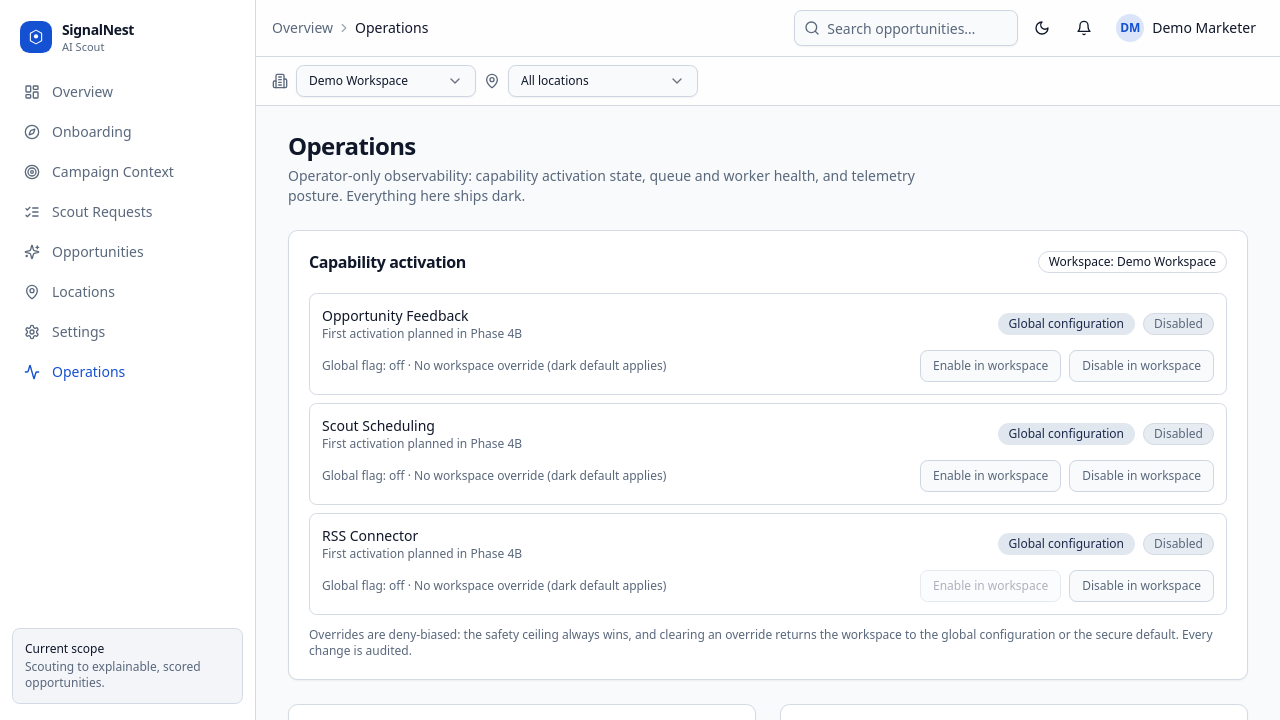
Test: operations page — override mutations › sets a workspace override behind an explicit confirmation and reflects the new state
This screenshot has width=1280, height=720.
Step 1. Click the 1st button "Enable in workspace" → (991, 366), box [920,350,1061,382]
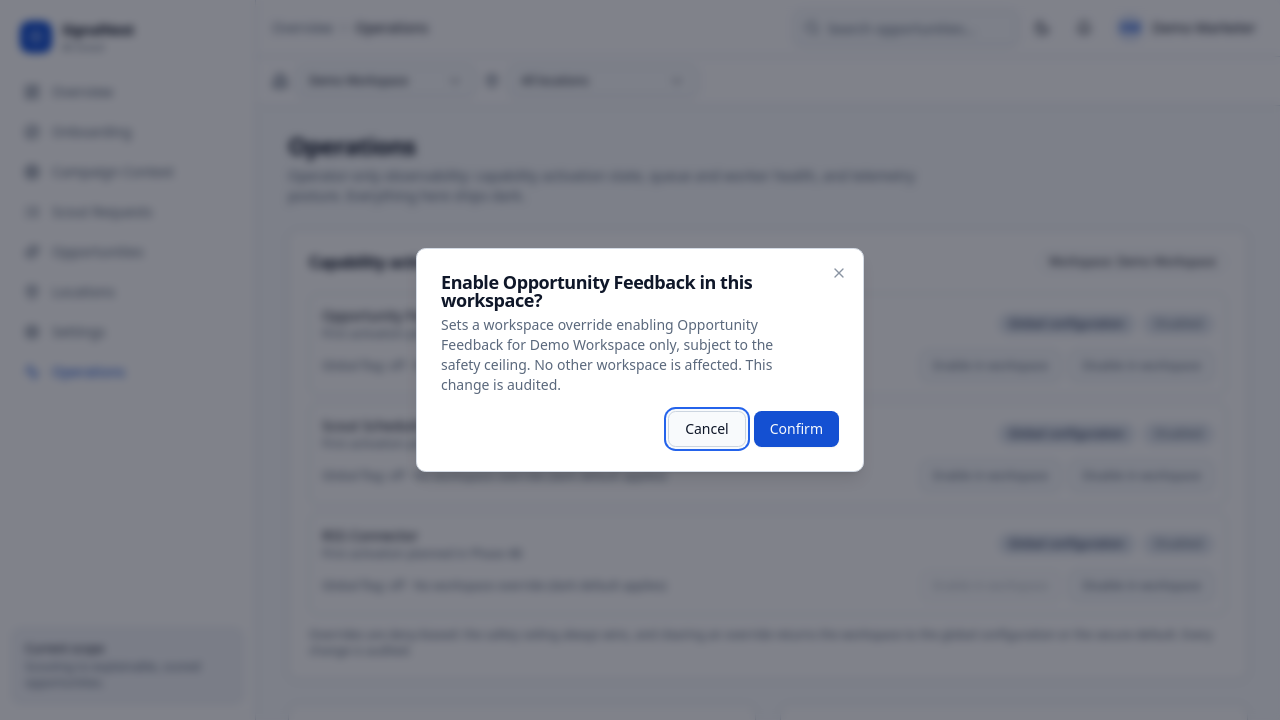
Expected: the heading "Enable Opportunity Feedback in this workspace?" is shown, [441,270,752,312]
Step 2. Click the button "Confirm" → (796, 429), box [754,411,839,447]
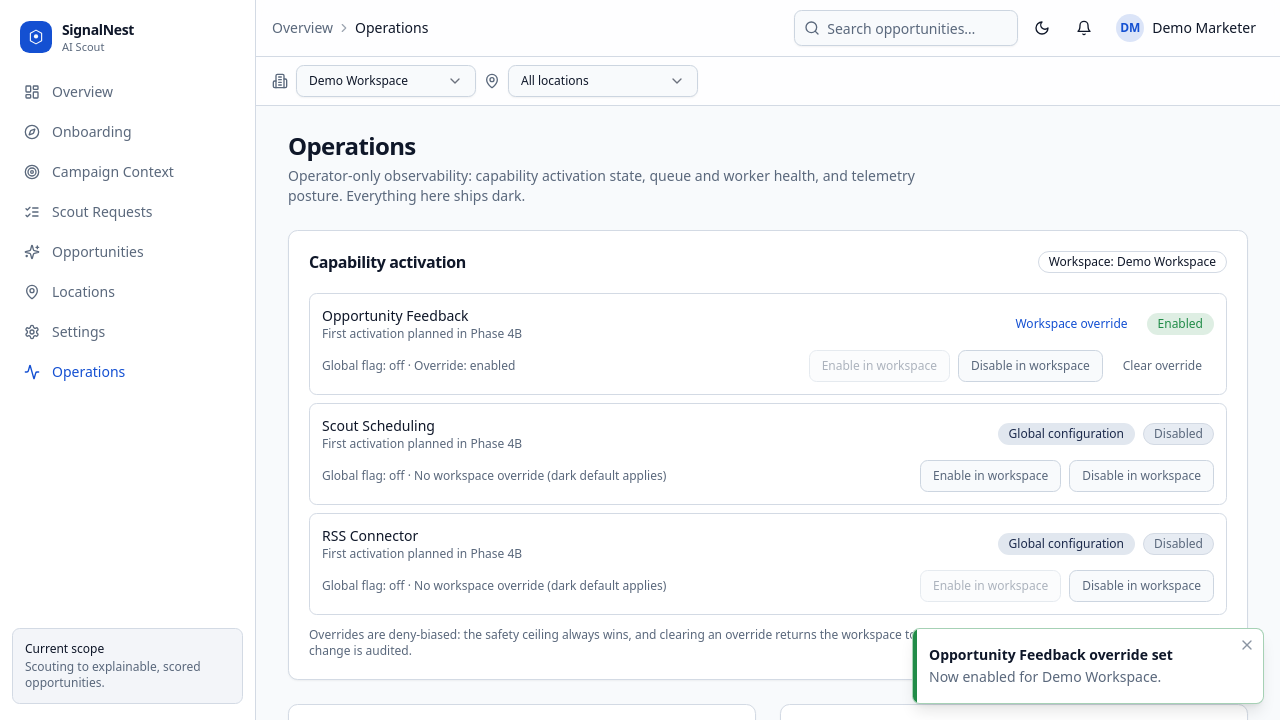
Expected: the text "Opportunity Feedback override set" is shown, [929,645,1173,665]
Expected: the text "Enabled" is shown, [1146,313,1214,335]
Expected: the text "Workspace override" is shown, [1016,315,1128,332]
